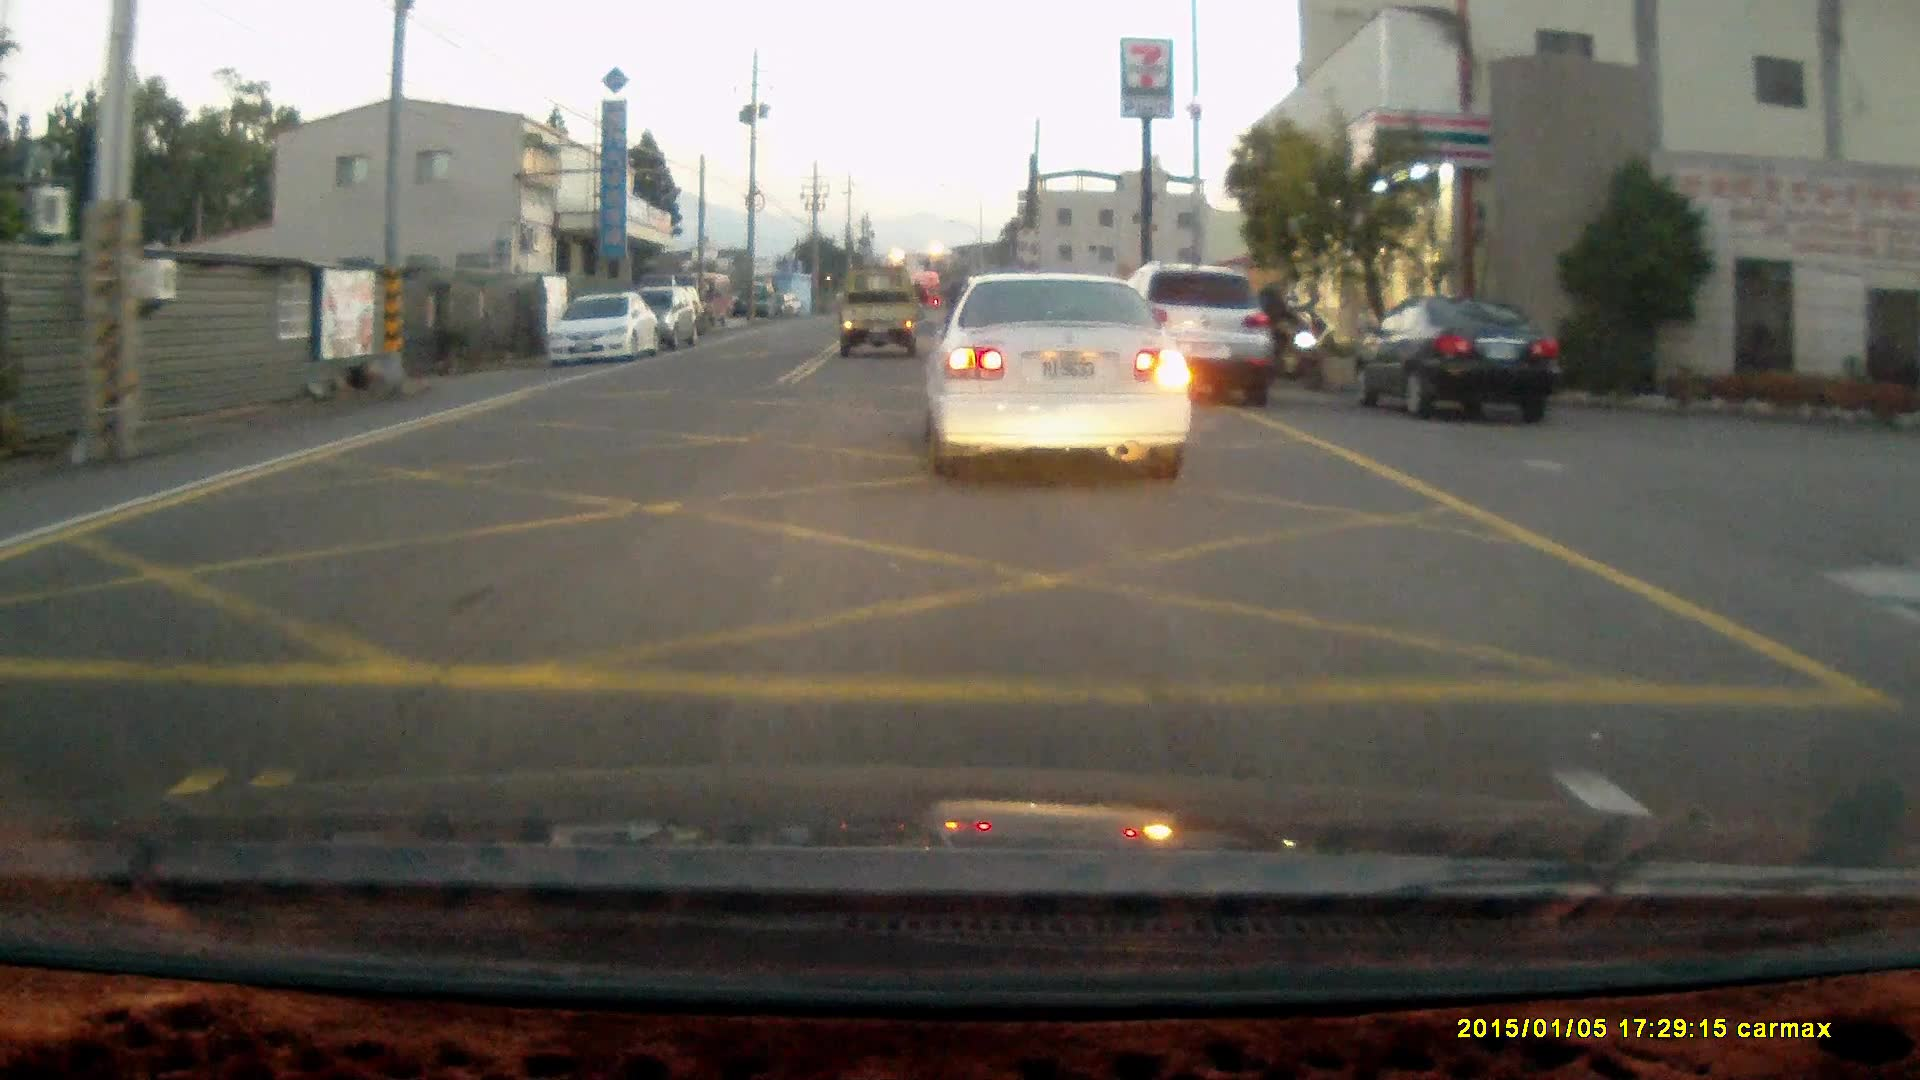rider: (1250, 280, 1328, 390)
vehicle: (937, 273, 1198, 494), (1346, 293, 1564, 425), (1127, 262, 1283, 406), (545, 285, 657, 368), (843, 264, 930, 356), (632, 287, 702, 353)
